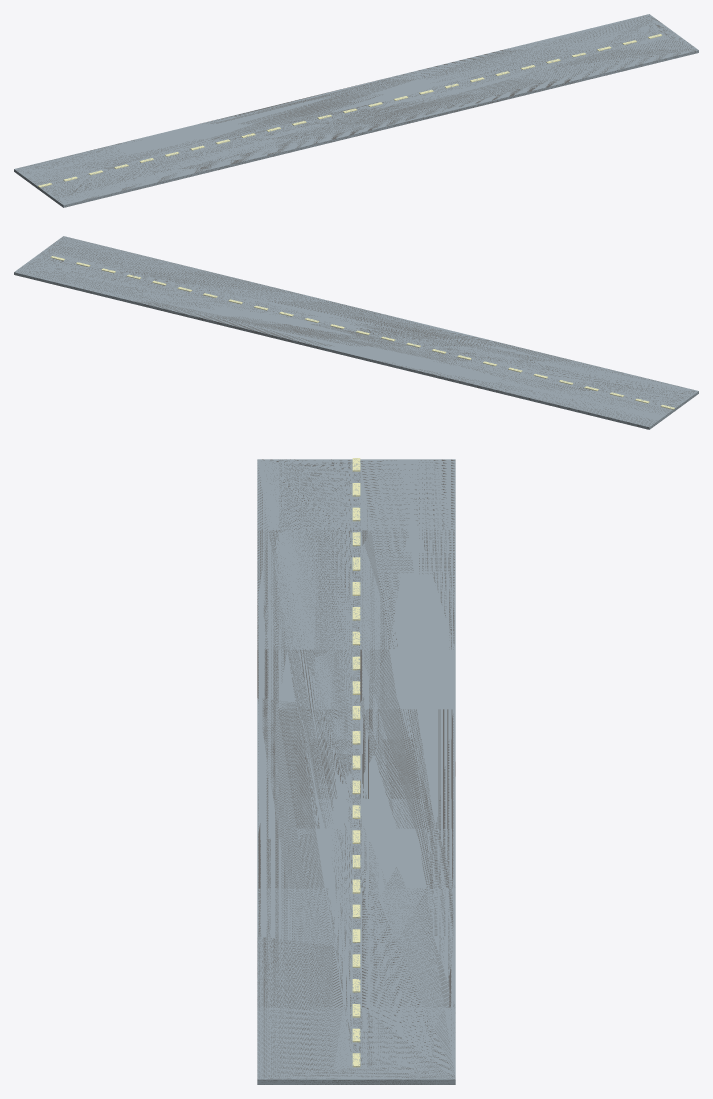
File: Road_2.fbx
3 views of the same model, one above another, from view 1: azimuth 30°, elevation 25°; view 2: azimuth 150°, elevation 25°; view 3: azimuth 270°, elevation 25° (orthographic). The views are drawn at different scales.
Visible parts, largest first — view 1: Road_2; view 2: Road_2; view 3: Road_2.
Part boxes in pixels (x1,y1,x2,y2): Road_2: (14, 14, 698, 207); Road_2: (14, 236, 698, 429); Road_2: (257, 458, 455, 1084).
Size of the model in its own units: 5000 by 25 by 675.
